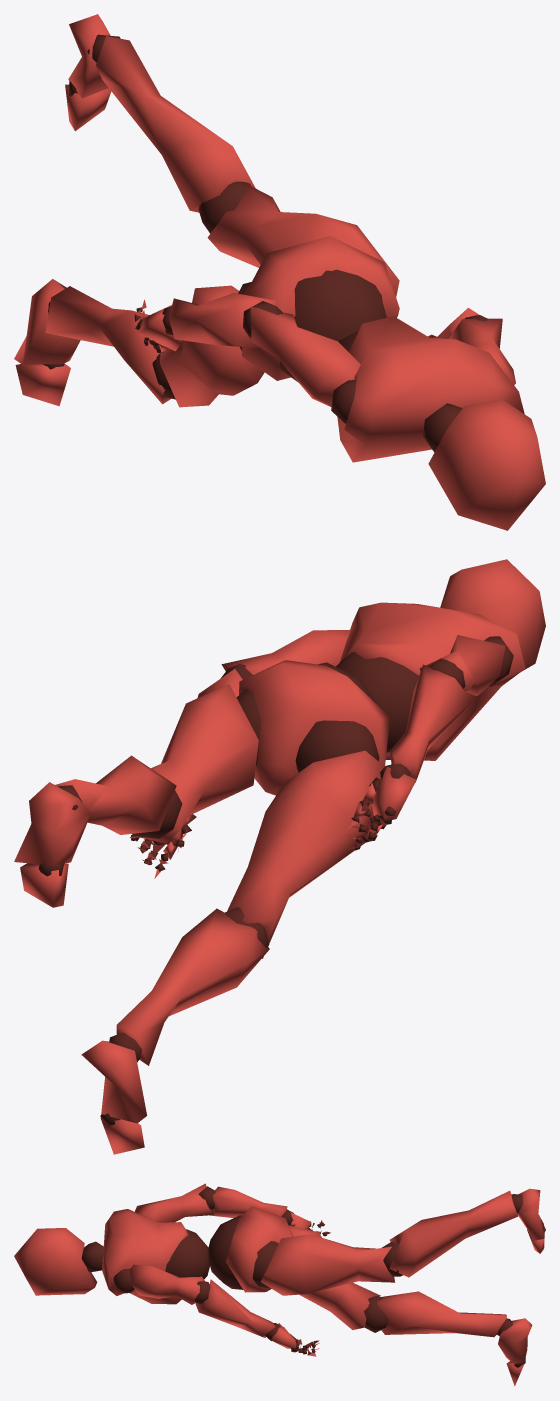
3 views of the same model, one above another, from view 1: azimuth 30°, elevation 25°; view 2: azimuth 150°, elevation 25°; view 3: azimuth 270°, elevation 25° (orthographic). The views are drawn at different scales.
Parts seen in each view (by area): view 1: Beta_Surface, Beta_Joints; view 2: Beta_Surface, Beta_Joints; view 3: Beta_Surface, Beta_Joints.
Boxes of the visible parts, left/top/right/bottom form: Beta_Surface: left=14, top=14, right=545, bottom=530; Beta_Joints: left=42, top=34, right=487, bottom=452; Beta_Surface: left=14, top=559, right=545, bottom=1154; Beta_Joints: left=38, top=636, right=513, bottom=1126; Beta_Surface: left=14, top=1183, right=544, bottom=1386; Beta_Joints: left=81, top=1186, right=545, bottom=1367.
Size of the model in its own units: 0.6113 by 0.7889 by 1.79.
